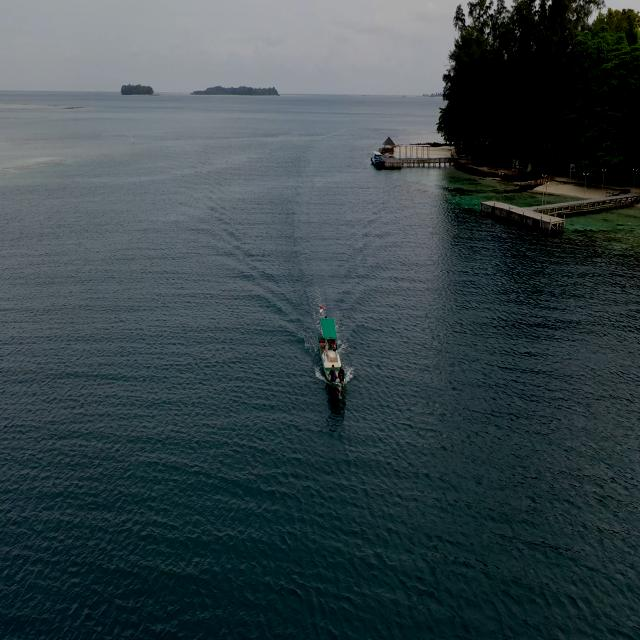ship: (307, 306, 353, 398)
